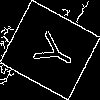Y: (24, 25, 79, 76)
